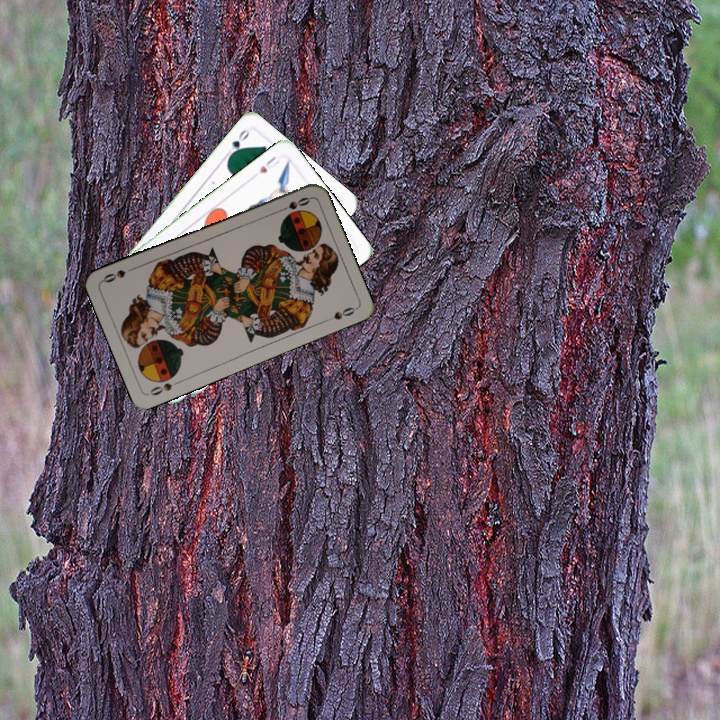GO: (221, 125, 252, 161)
HU: (255, 152, 282, 176)
SO: (274, 193, 313, 215), (146, 376, 184, 398)
